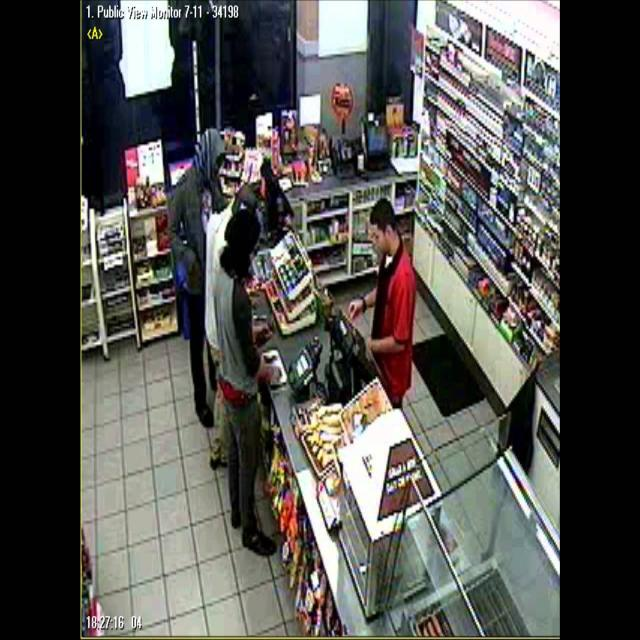body: (210, 201, 284, 563), (165, 126, 228, 431), (204, 180, 260, 474), (347, 196, 418, 412)
